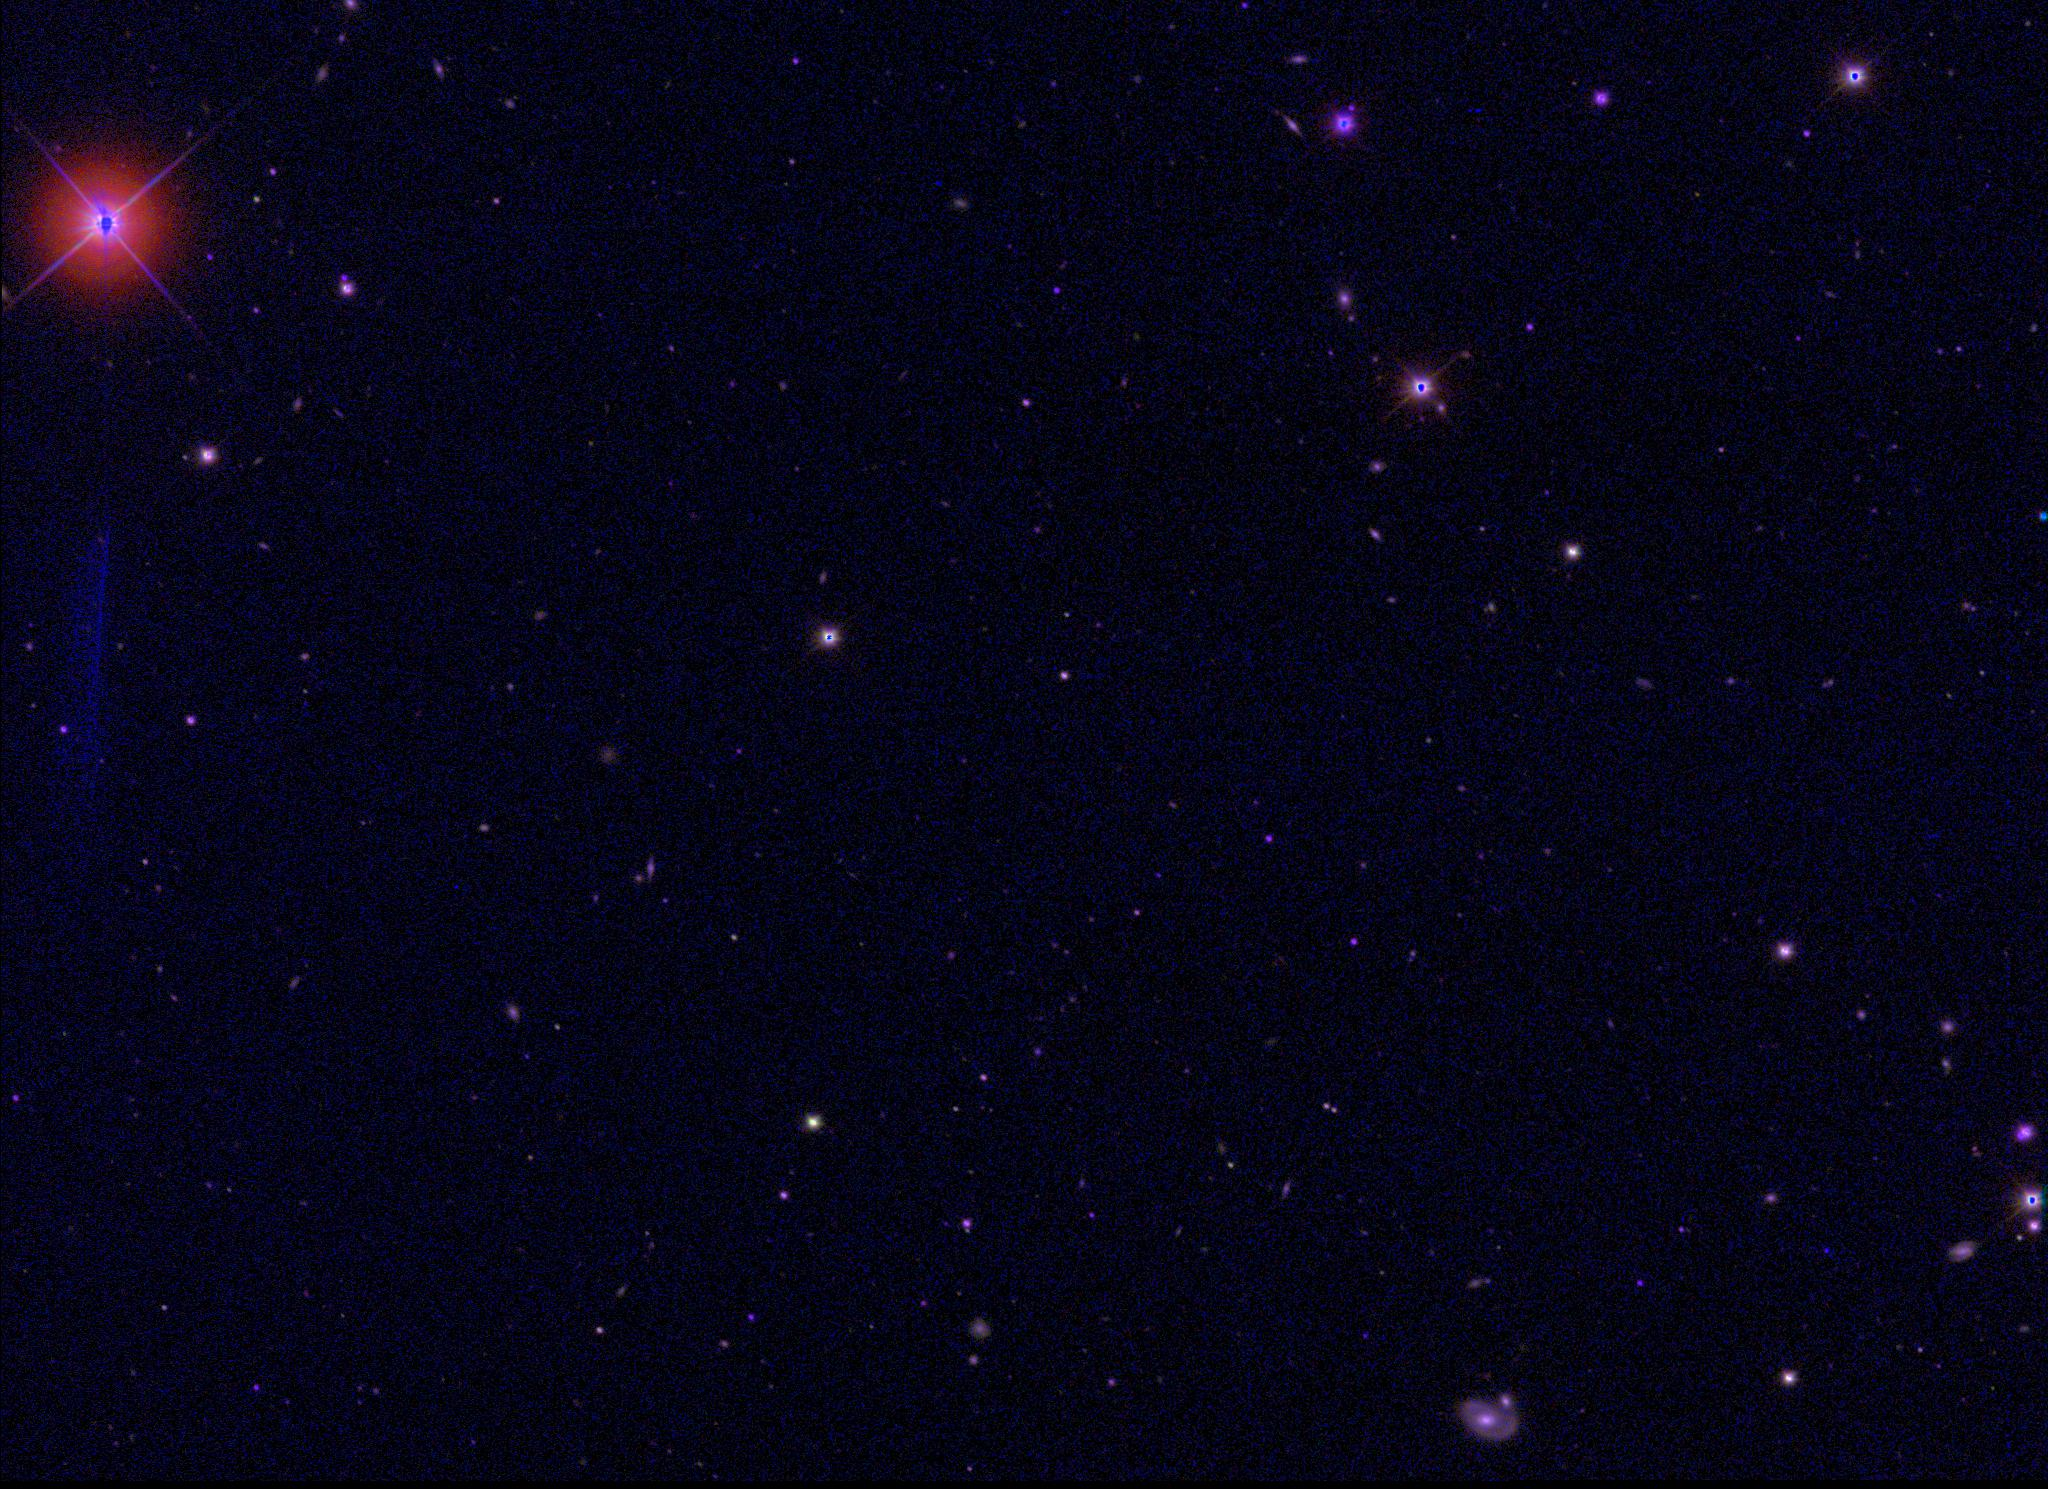L: (1819, 1239, 1833, 1254)
